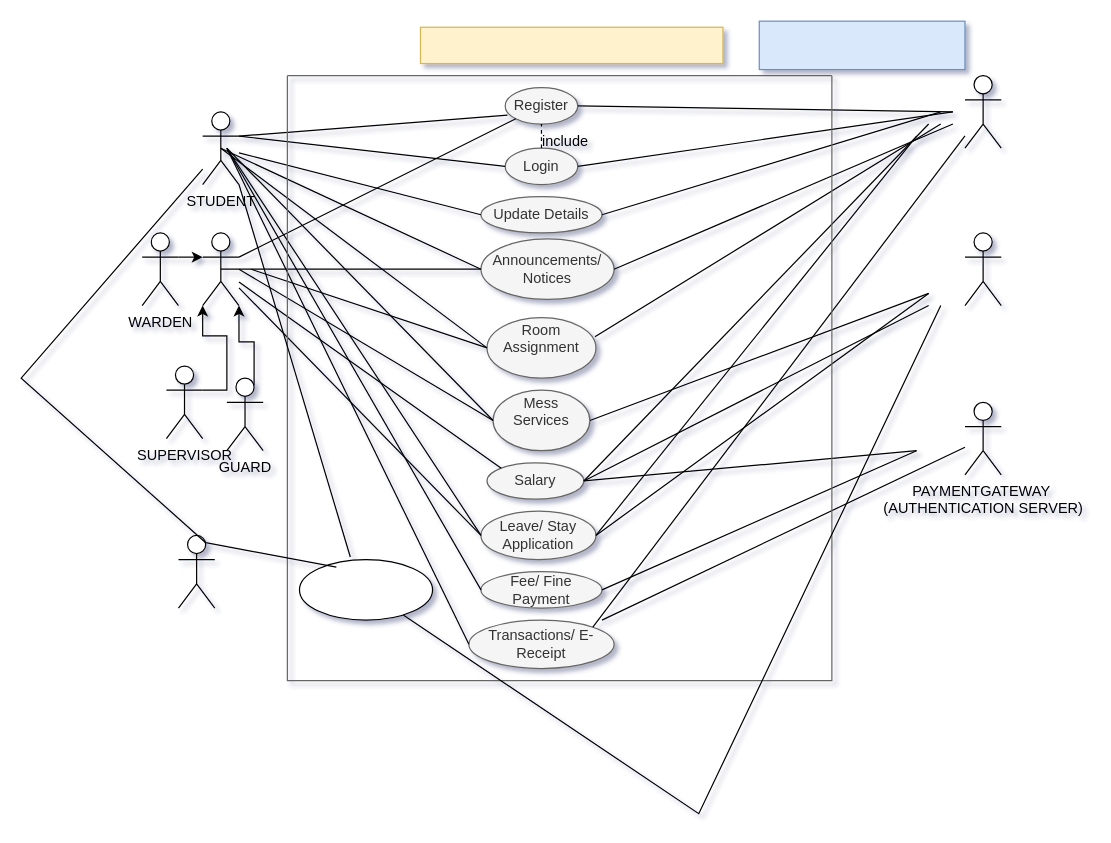
Image size: 1111x843. Some labels were removed from this diagram. Each missing label, with the centre of its shape:
HOSTEL MANAGEMENT SYSTEM: (571,45)
Mani Kiran, 2212056: (861,45)
MESS MANAGEMENT: (982,269)
NIT Silchar ADMINISTRATION: (982,111)
Prefect: (196,571)
STAFF: (220,269)
Suggestions / Complaint: (365,589)
